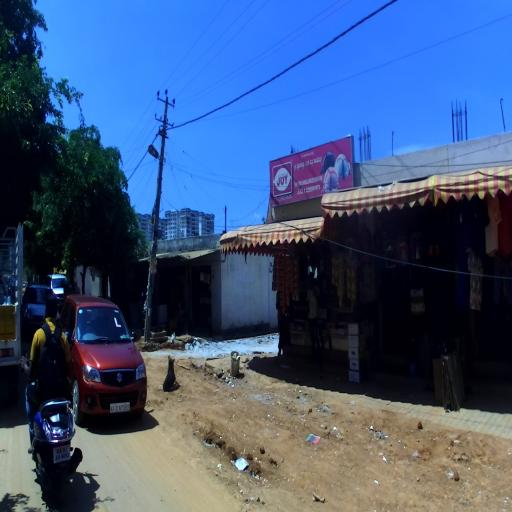street_light_0: (148, 144, 164, 194)
